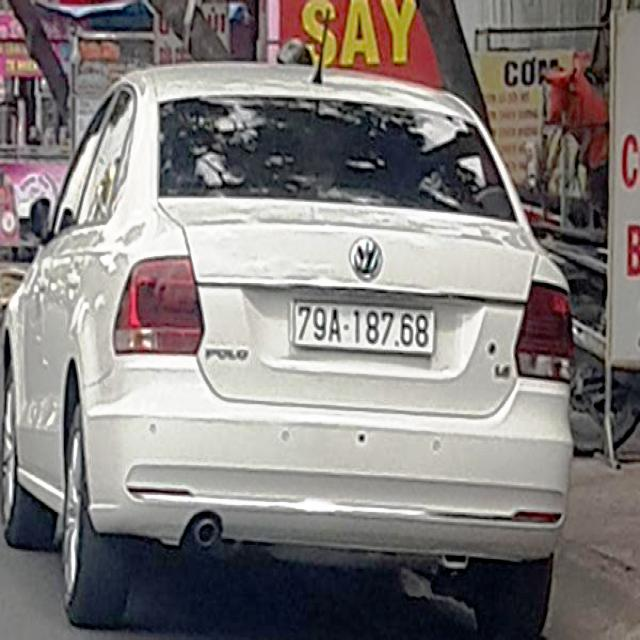license_plate: (292, 299, 437, 355)
